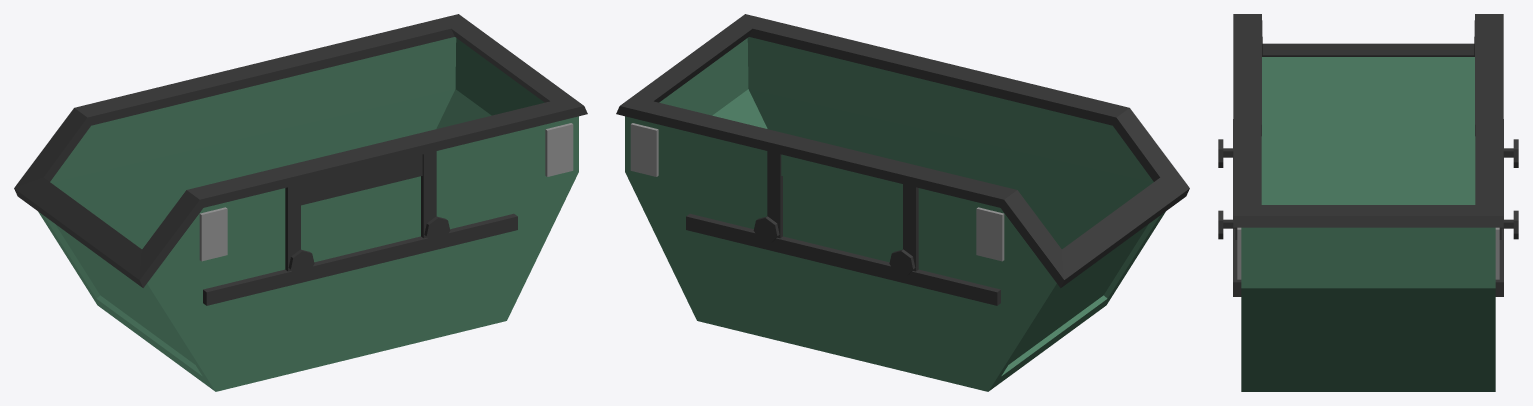
The model's file is Container_02.glb.
3 views of the same model, side by side, from view 1: azimuth 30°, elevation 25°; view 2: azimuth 150°, elevation 25°; view 3: azimuth 270°, elevation 25° (orthographic). The views are drawn at different scales.
Visible parts, largest first — view 1: Container_2_mesh; view 2: Container_2_mesh; view 3: Container_2_mesh.
Boxes of the visible parts, bbox=[...] form: Container_2_mesh: bbox=[14, 14, 587, 391]; Container_2_mesh: bbox=[616, 14, 1189, 391]; Container_2_mesh: bbox=[1218, 14, 1518, 391].
Size of the model in its own units: 3.52 by 1.5 by 1.9.
1 material, 1 textured.
